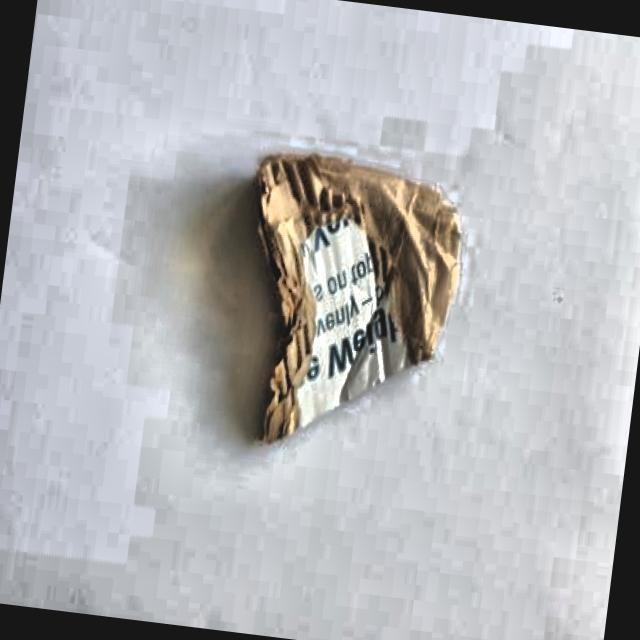cardboard: (222, 142, 472, 466)
